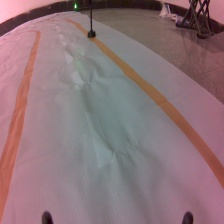green: (71, 1, 96, 40)
